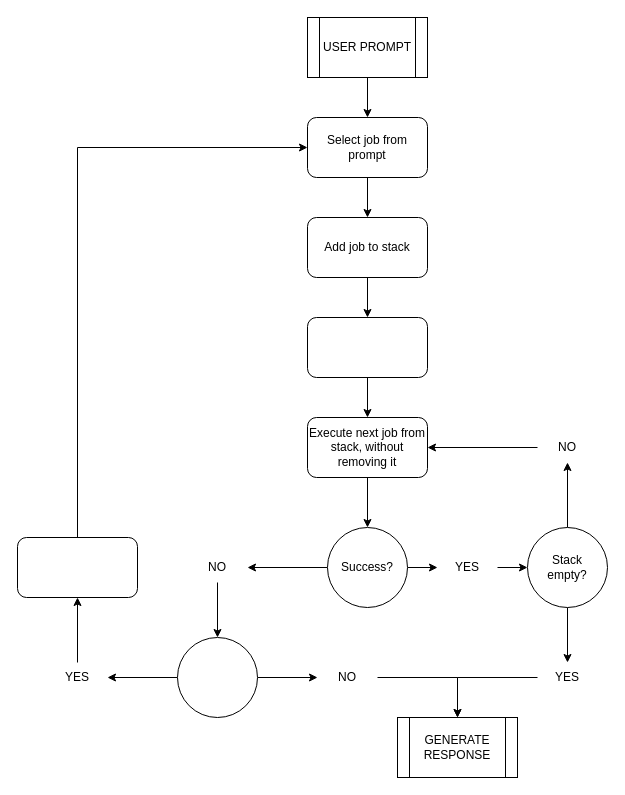
The diagram is 625 pixels wide and 795 high, and some of its shapes have lost their labels. The shapes that lost their labels are listed below. From the top down, each one's box as (x1, y1, x2, y2) in pixels, then its label:
(306, 316, 428, 378): Job parameters definition
(16, 536, 138, 598): Generate "get parameter" prompt
(176, 636, 258, 718): Missing Parameter?
